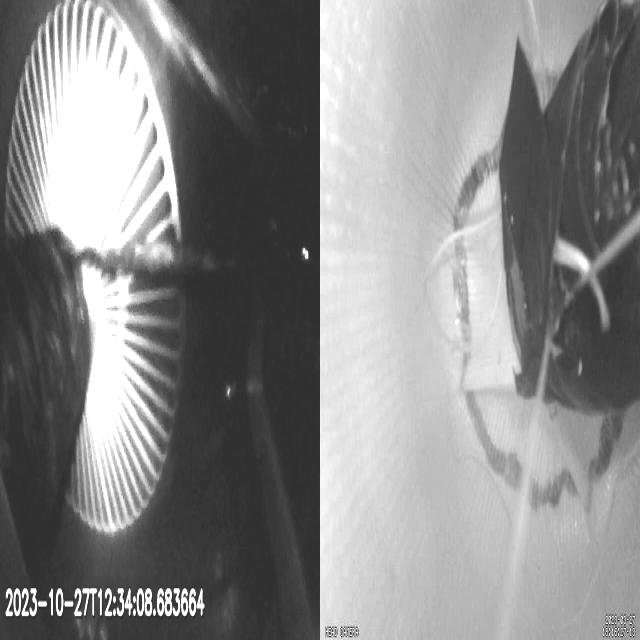red-circle: (452, 66, 640, 514)
